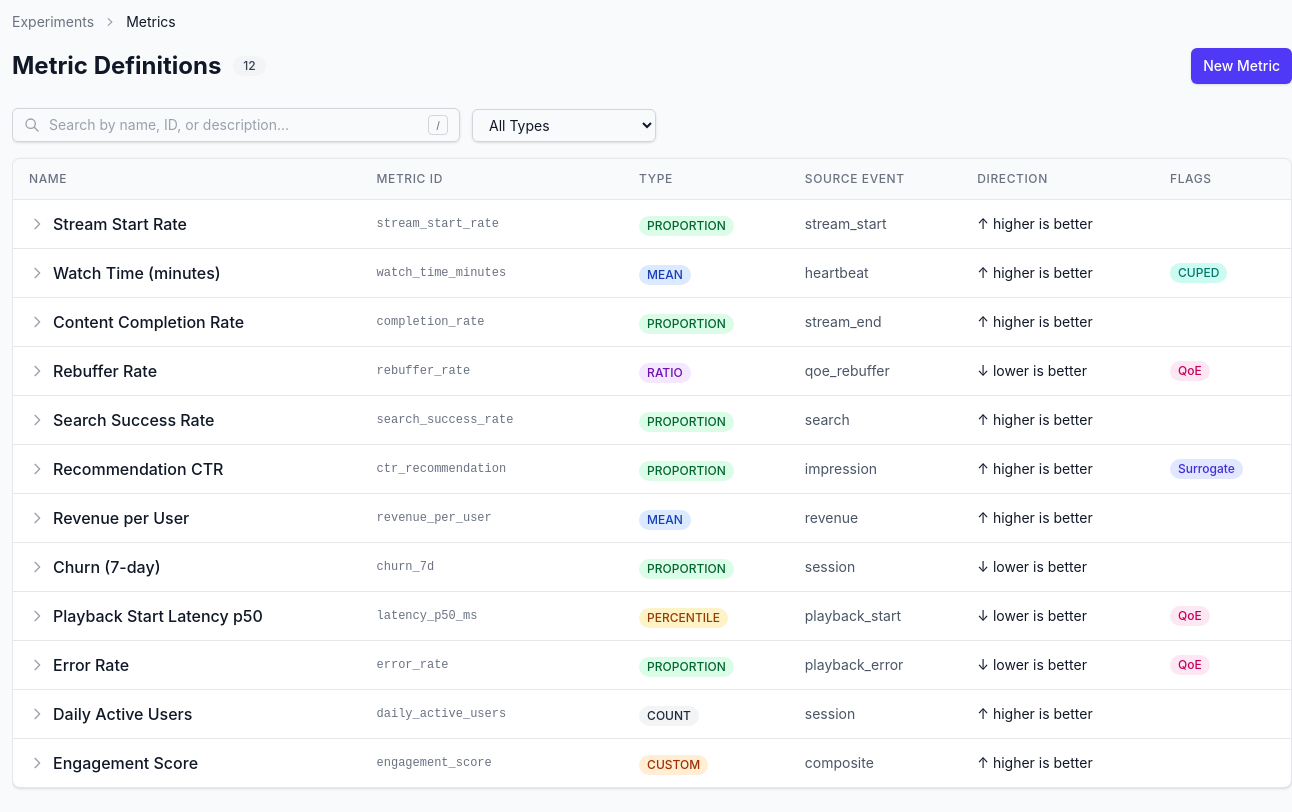
Test: Metric Browser Page › filters by type dropdown
The image size is (1292, 812).
Expected: the text "Stream Start Rate" is shown, [53, 212, 187, 236]
Select "PROPORTION" in the dropdown with test id "type-filter" at coordinates (564, 125), box [472, 108, 656, 142]
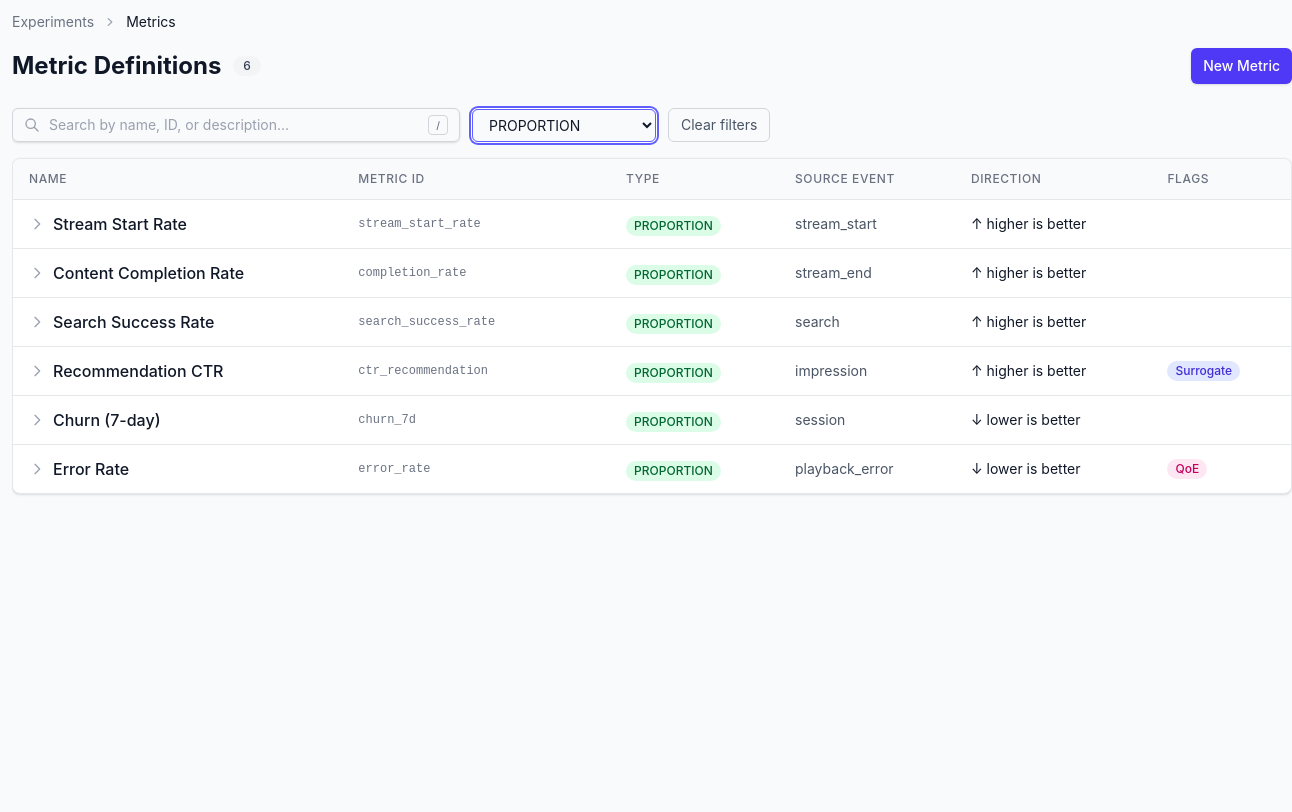
Now the button "Watch Time (minutes)" is gone
Now the button "Rebuffer Rate" is gone
Now the text with test id "metric-count" reads "6", box [243, 58, 251, 73]
